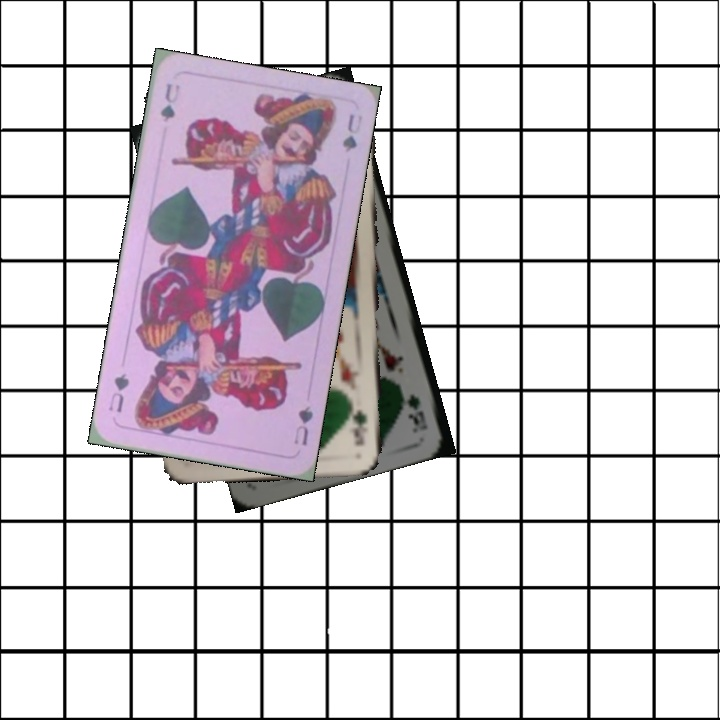GK: (348, 392, 370, 449), (404, 390, 430, 435)
GU: (289, 402, 316, 448), (156, 79, 183, 125)
